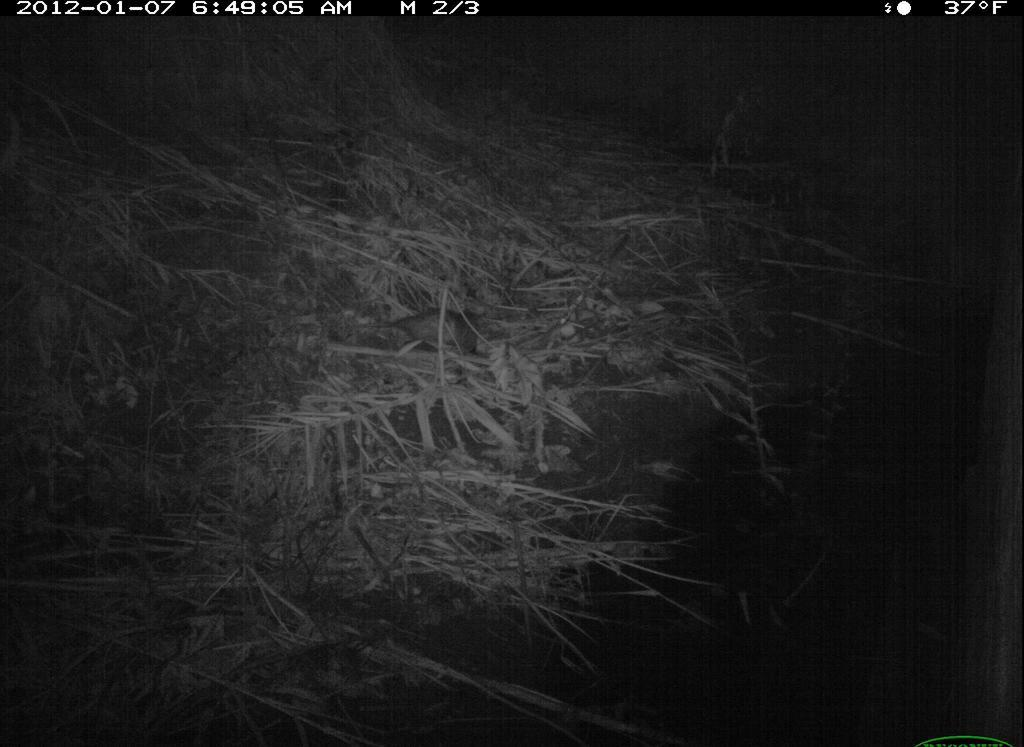opossum: (375, 294, 500, 363)
